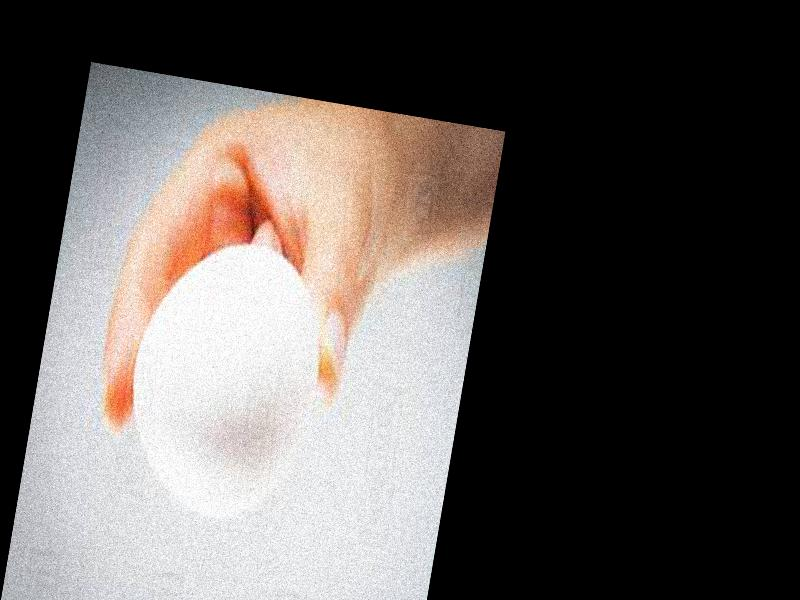Eggs: (112, 231, 333, 529)
